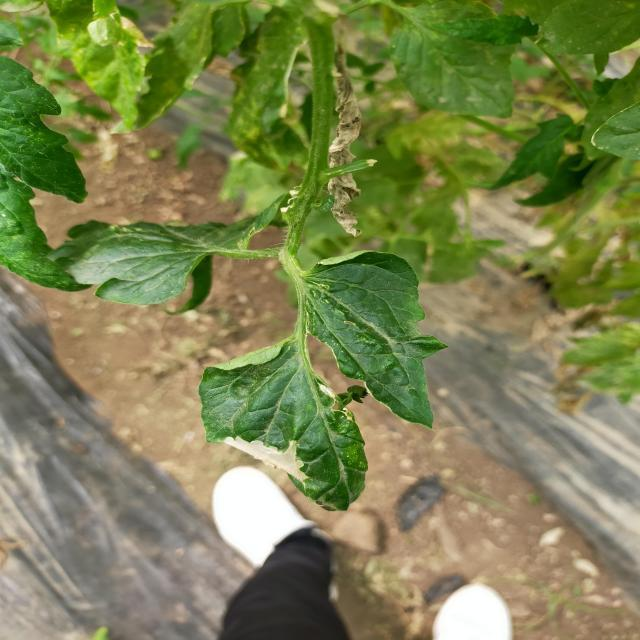Tuta absoluta: (223, 411, 320, 484)
